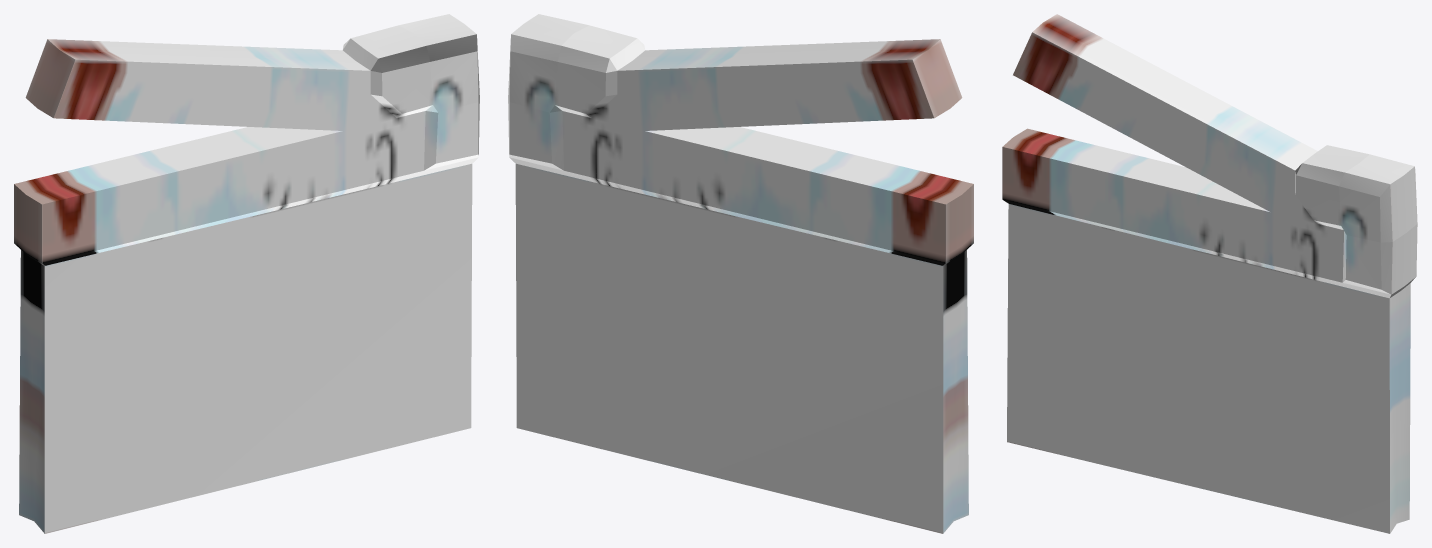
File: static.ico.obj
3 renders of one model, left to right at view 1: azimuth 30°, elevation 25°; view 2: azimuth 150°, elevation 25°; view 3: azimuth 330°, elevation 25°, orthographic. The views are drawn at different scales.
Size of the model in its own units: 4.54 by 4.61 by 0.7129.
